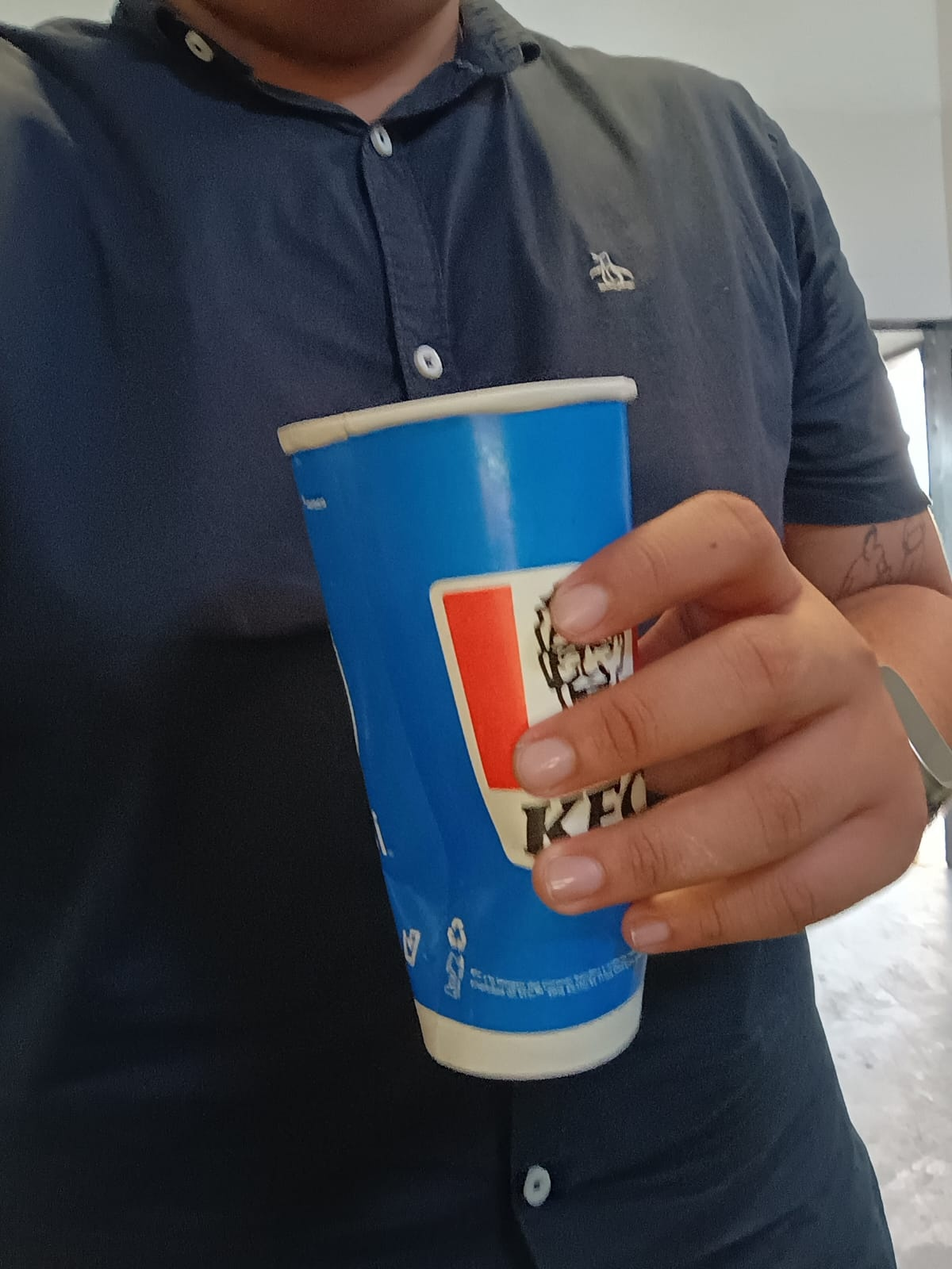Carton: (280, 375, 660, 1081)
